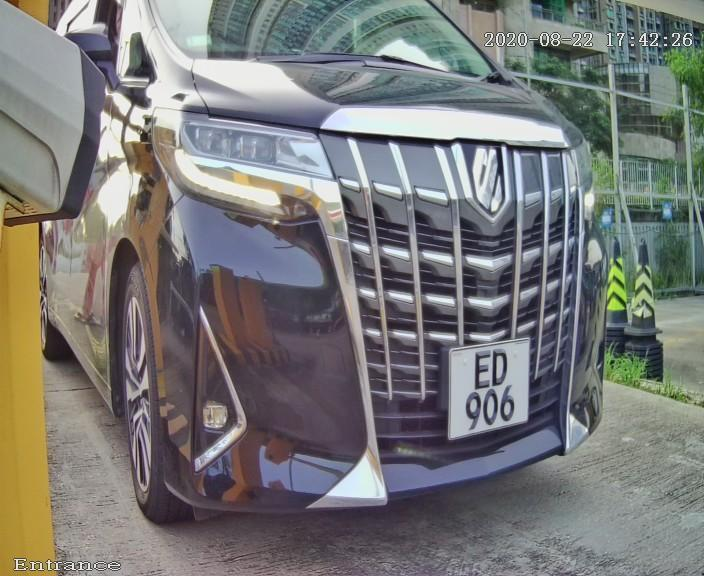License Plate: (437, 299, 538, 456)
